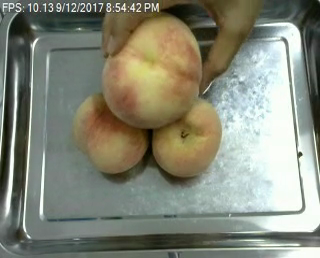Peach: (101, 13, 201, 129), (71, 90, 147, 175), (149, 93, 222, 178)
